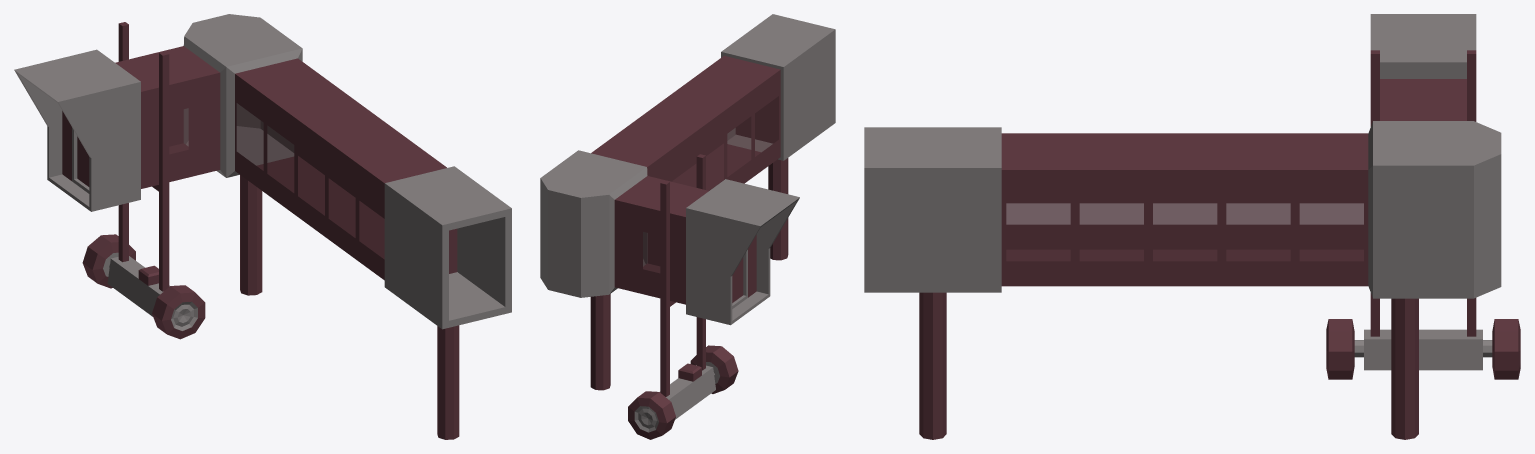
The model's file is airport-jet-bridge.fbx.
3 renders of one model, left to right at view 1: azimuth 30°, elevation 25°; view 2: azimuth 150°, elevation 25°; view 3: azimuth 270°, elevation 25°, orthographic. The views are drawn at different scales.
Visible parts, largest first — view 1: airport-jet-bridge; view 2: airport-jet-bridge; view 3: airport-jet-bridge.
Boxes of the visible parts, x1,y1,x2,y2 form: airport-jet-bridge: [14, 14, 511, 439]; airport-jet-bridge: [540, 14, 835, 439]; airport-jet-bridge: [864, 14, 1520, 439].
Size of the model in its own units: 7.4 by 7.8 by 14.32.
